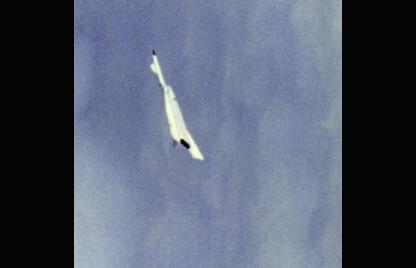U2: (150, 48, 204, 158)
